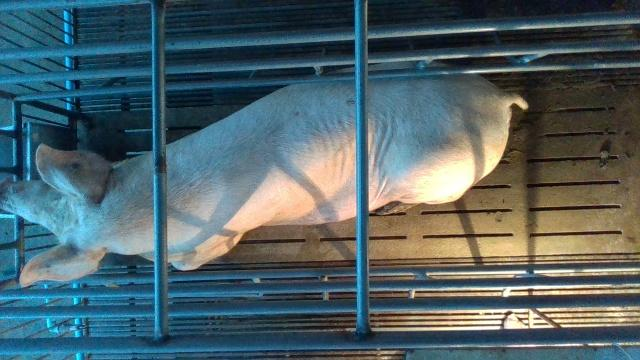sow-sit: (0, 59, 527, 289)
